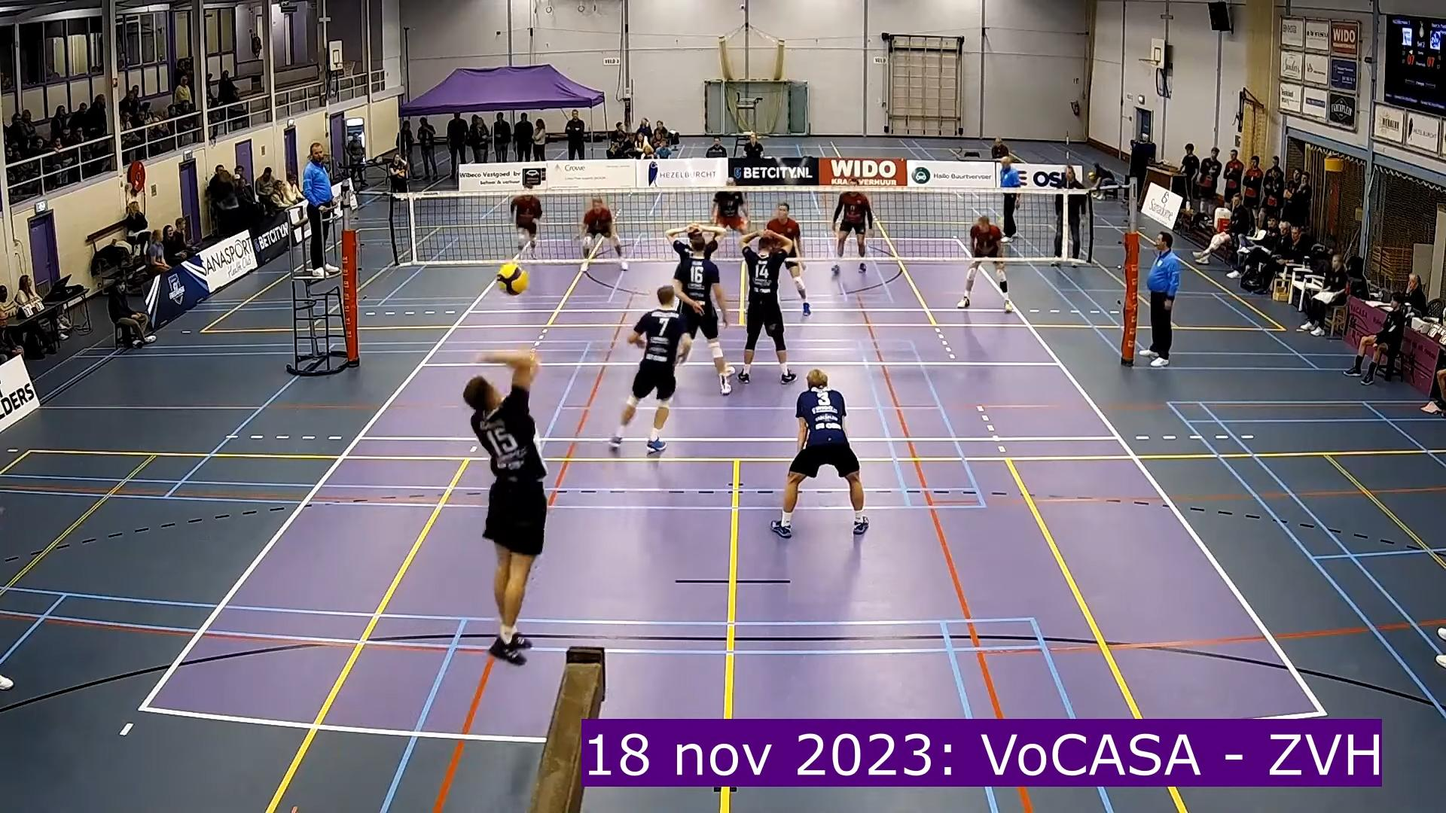Player: (771, 369, 868, 537), (610, 285, 688, 453), (666, 224, 732, 394), (738, 230, 796, 384), (956, 216, 1013, 312), (765, 202, 810, 315), (831, 188, 873, 274), (580, 197, 627, 269), (510, 192, 542, 257), (712, 178, 748, 234)
Serve: (452, 346, 560, 658)
ball: (497, 265, 527, 293)
